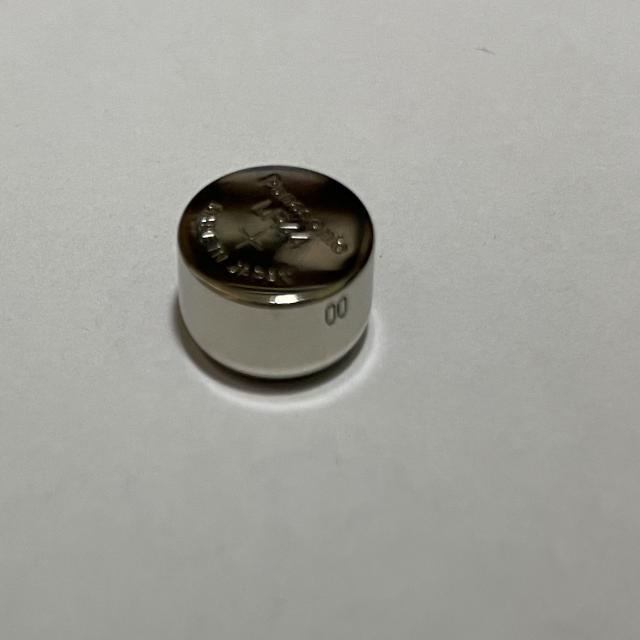COIN: (174, 164, 375, 388)
